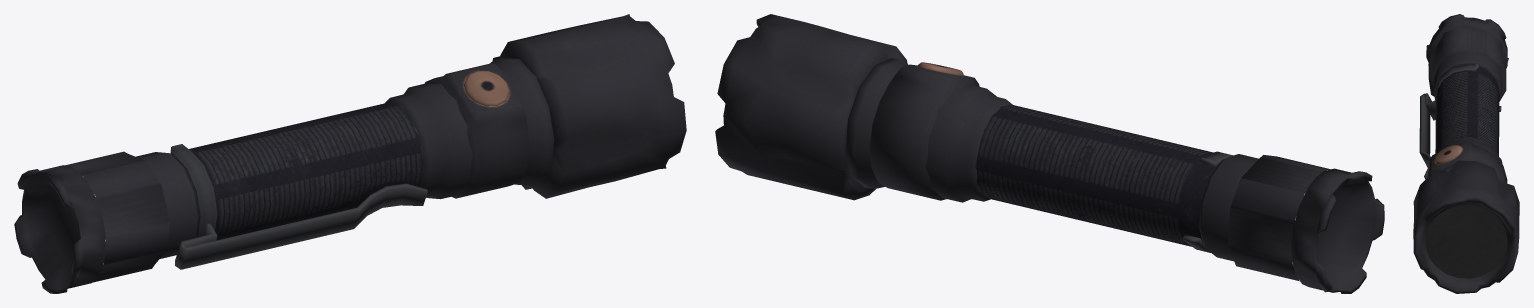
The model's file is torch.glb.
3 views of the same model, side by side, from view 1: azimuth 30°, elevation 25°; view 2: azimuth 150°, elevation 25°; view 3: azimuth 270°, elevation 25° (orthographic). The views are drawn at different scales.
Parts seen in each view (by area): view 1: Gear_Torch; view 2: Gear_Torch; view 3: Gear_Torch.
Boxes of the visible parts, x1,y1,x2,y2 form: Gear_Torch: (14, 14, 686, 293); Gear_Torch: (715, 14, 1384, 293); Gear_Torch: (1413, 14, 1519, 293).
Size of the model in its own units: 0.1302 by 0.0304 by 0.0303.
Materials: 1 (1 with a texture image).
